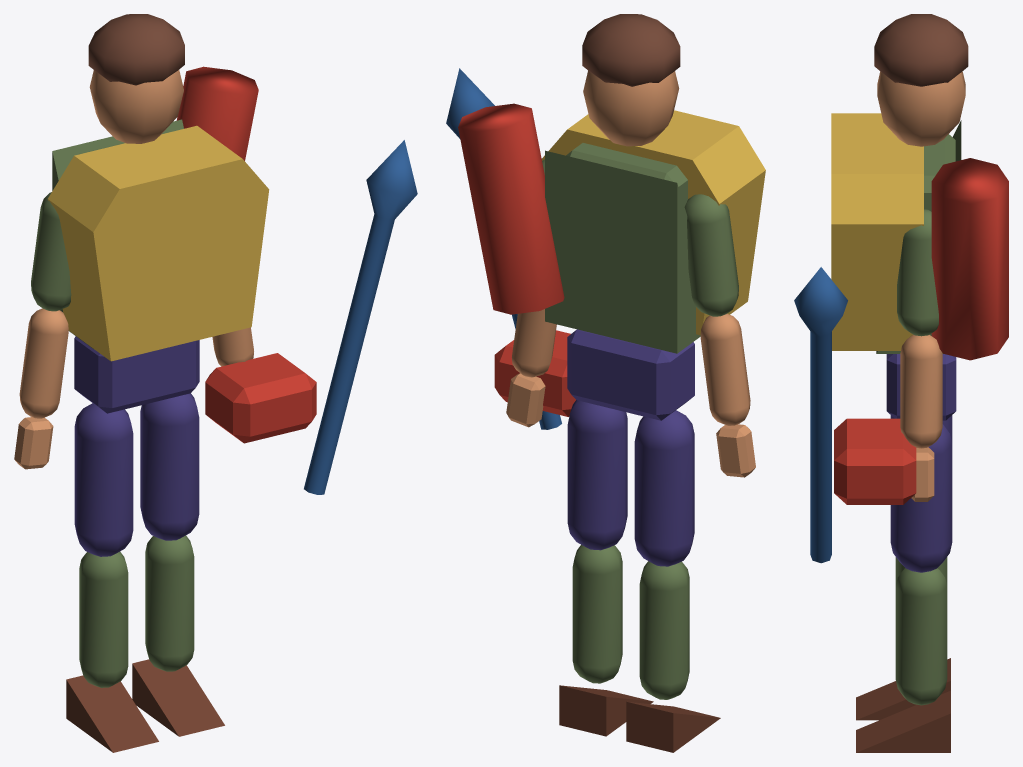
Rendered from adventurer.rustic.glb.
3 renders of one model, left to right at view 1: azimuth 30°, elevation 25°; view 2: azimuth 150°, elevation 25°; view 3: azimuth 270°, elevation 25°, orthographic.
Parts seen in each view (by area): view 1: accessory.body, accessory.main-hand, thigh.left, thigh.right, accessory.waist, pelvis, shin.right, shin.left, hair, accessory.back, head, foot.left (+6 smaller); view 2: tunic, accessory.back, accessory.body, pelvis, thigh.left, thigh.right, shin.left, shin.right, hair, upper-arm.left, head, forearm.left (+8 smaller); view 3: accessory.body, accessory.back, accessory.main-hand, shin.right, accessory.waist, hair, thigh.right, head, forearm.right, foot.right, upper-arm.right, pelvis (+3 smaller).
Boxes of the visible parts, x1,y1,x2,y2 form: accessory.body: (47, 125, 269, 361); accessory.main-hand: (304, 140, 417, 494); thigh.left: (74, 403, 133, 556); thigh.right: (140, 393, 199, 540); accessory.waist: (205, 353, 316, 443); pelvis: (74, 336, 199, 413); shin.right: (145, 535, 194, 671); shin.left: (79, 551, 128, 687); hair: (88, 14, 184, 85); accessory.back: (176, 66, 258, 160); head: (89, 70, 183, 143); foot.left: (66, 675, 158, 752); tunic: (545, 150, 700, 353); accessory.back: (458, 103, 564, 314); accessory.body: (541, 110, 765, 335); pelvis: (567, 329, 694, 420); thigh.left: (634, 410, 694, 566); thigh.right: (567, 400, 627, 550); shin.left: (639, 561, 689, 699); shin.right: (572, 544, 622, 683); hair: (582, 14, 680, 86); upper-arm.left: (684, 194, 738, 316); head: (583, 70, 679, 146); forearm.left: (700, 313, 750, 425); accessory.body: (831, 113, 923, 350); accessory.back: (931, 158, 1008, 360); accessory.main-hand: (794, 267, 847, 563); shin.right: (895, 568, 947, 705); accessory.waist: (834, 418, 916, 504); hair: (874, 14, 968, 86); thigh.right: (890, 424, 952, 572); head: (877, 71, 965, 146); forearm.right: (900, 334, 942, 448); foot.right: (856, 690, 950, 752); upper-arm.right: (897, 209, 938, 336); pelvis: (886, 354, 956, 420).
Bounding box in the file's own units: 1.59 × 3.03 × 0.8353.
